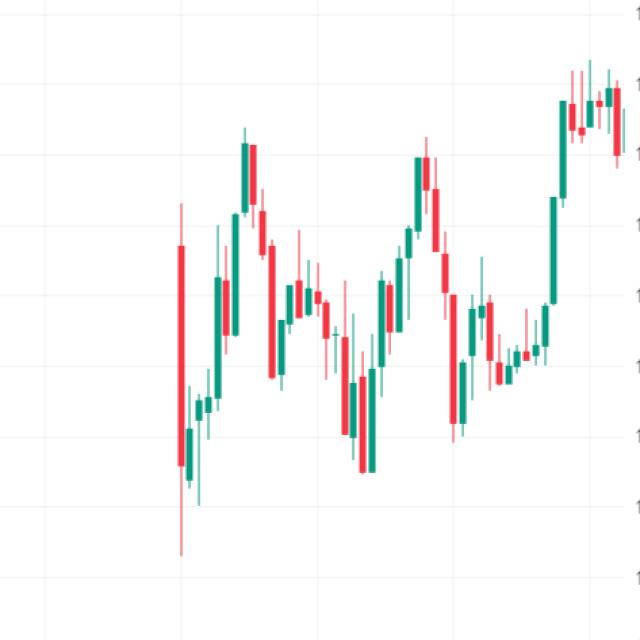Triple-Bottom: (148, 116, 586, 485)
